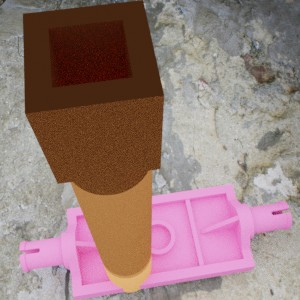lego: (22, 0, 164, 292), (19, 184, 292, 300)
